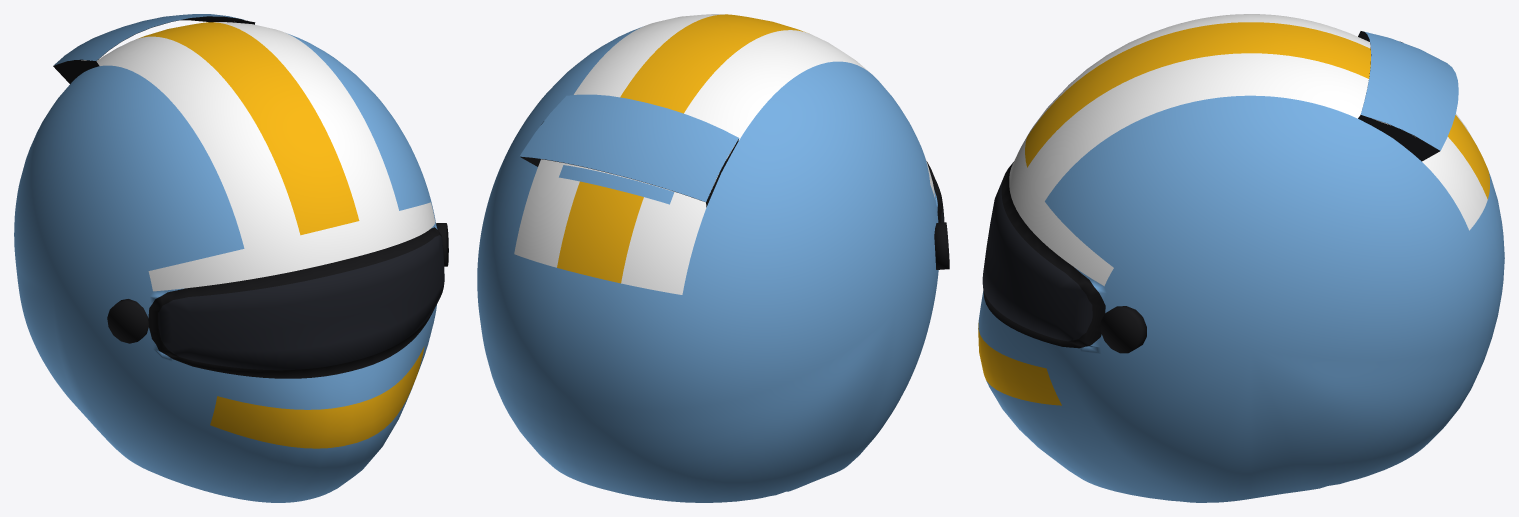
The model's file is COL.glb.
The picture shows the model from 3 angles, left to right: view 1: azimuth 30°, elevation 25°; view 2: azimuth 150°, elevation 25°; view 3: azimuth 270°, elevation 25°; orthographic projection. The views are drawn at different scales.
Visible parts, largest first — view 1: helmet; view 2: helmet; view 3: helmet.
Part boxes in pixels (x1,y1,x2,y2): helmet: [14, 14, 448, 502]; helmet: [477, 14, 949, 502]; helmet: [978, 14, 1504, 502].
Bounding box in the file's own units: 0.256 × 0.2772 × 0.3111.
